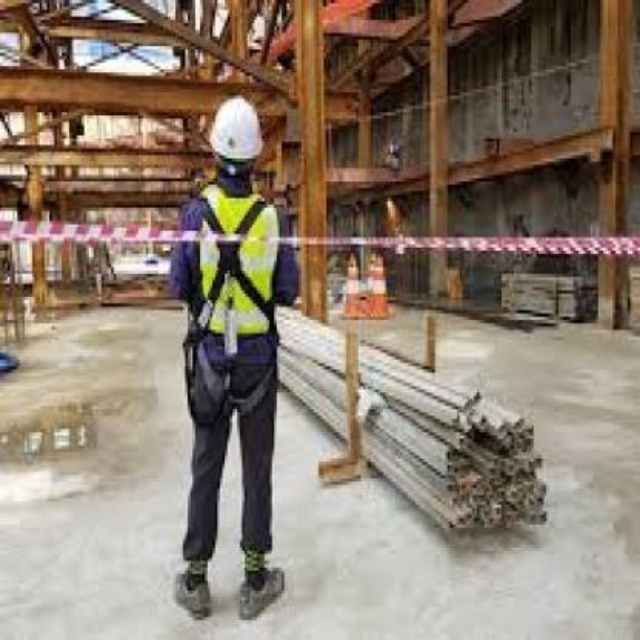Arnes_seguridad: (189, 192, 283, 425)
